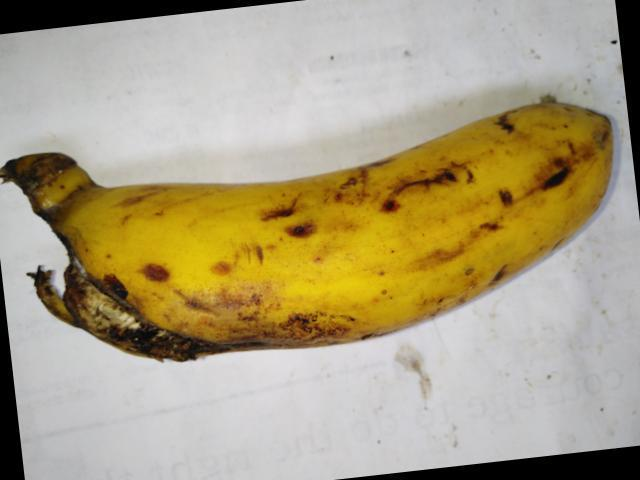ripe: (214, 95, 614, 352)
rotten: (21, 151, 204, 380)
